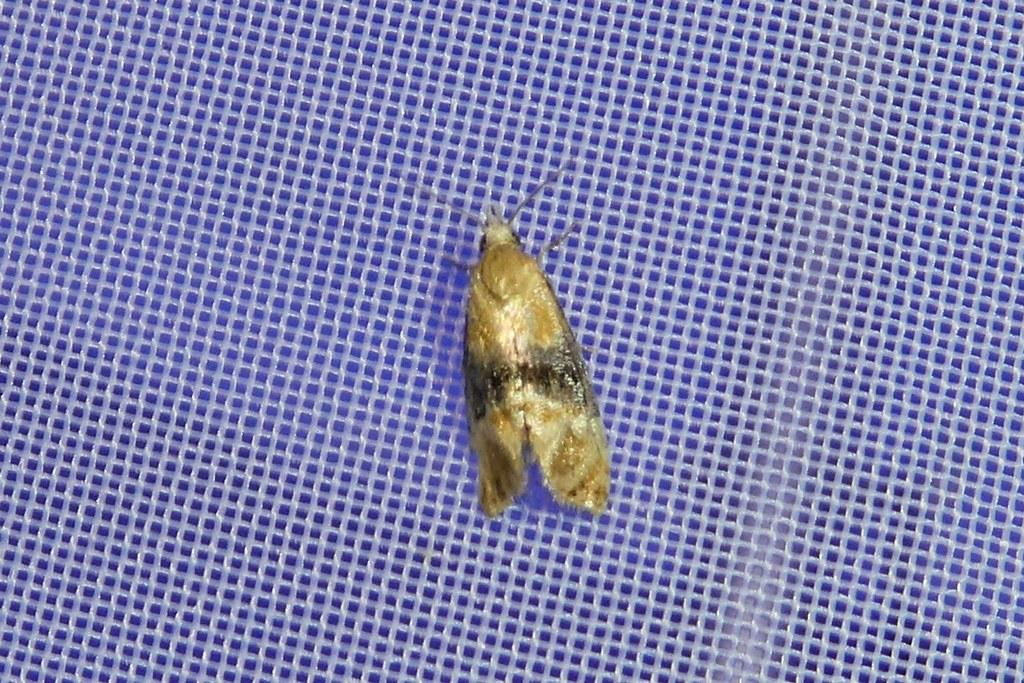Eupoecilia Ambiguella: (446, 143, 615, 521)
